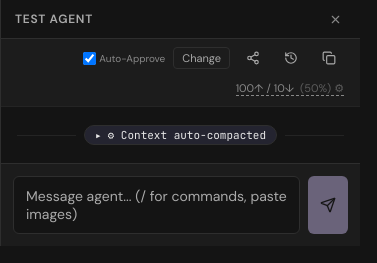
AgentPanel context-first token meter › shows the count without a last-range when the latest row has no counts
Click the text "100↑ / 10↓(50%) ⚙".
click(290, 88)  # box [236,81,344,96]
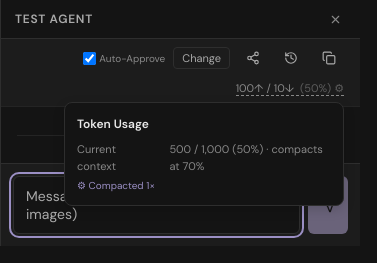
Check: the text "⚙ Compacted 1×" is shown, box [77,178,155,193]
